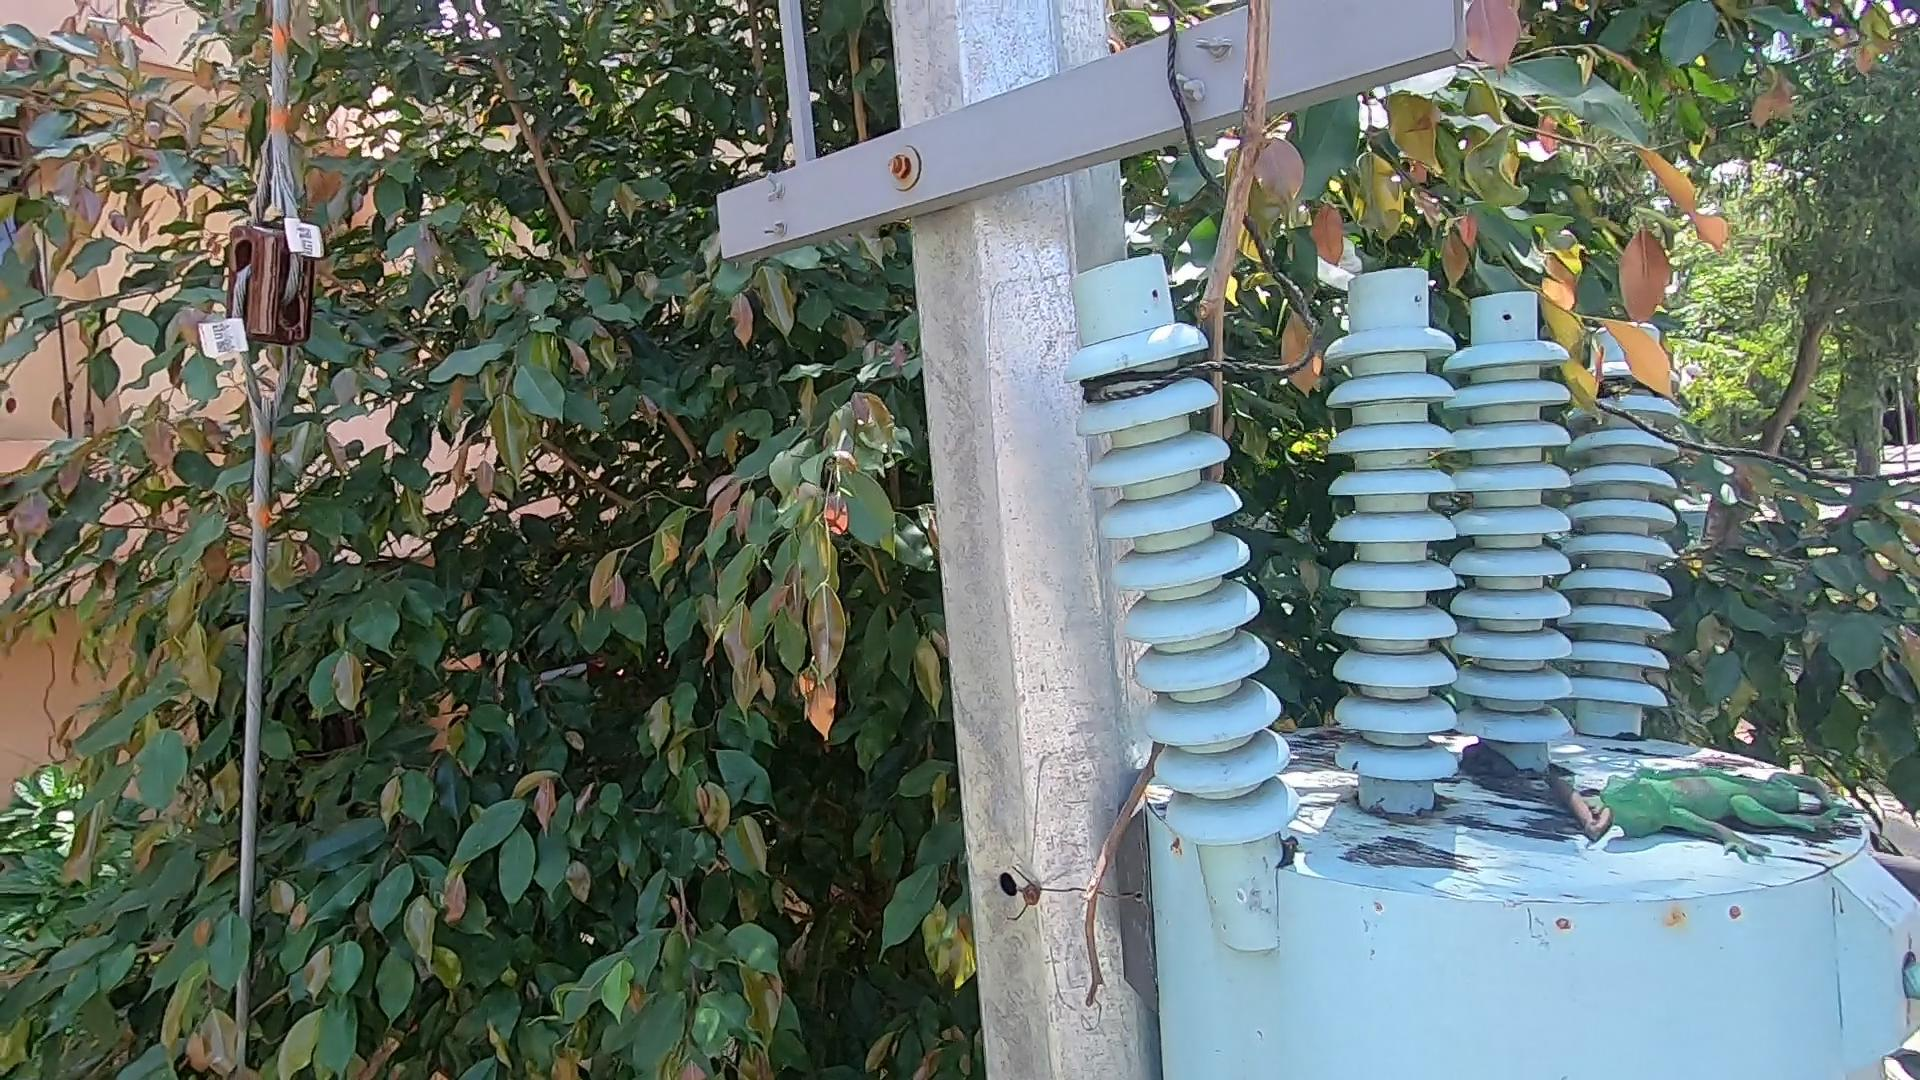branch with leaves: (1524, 293, 1710, 421)
leaf: (1527, 762, 1619, 847), (1447, 744, 1557, 789), (1273, 835, 1319, 866)
tree branch: (981, 3, 1313, 1033)
